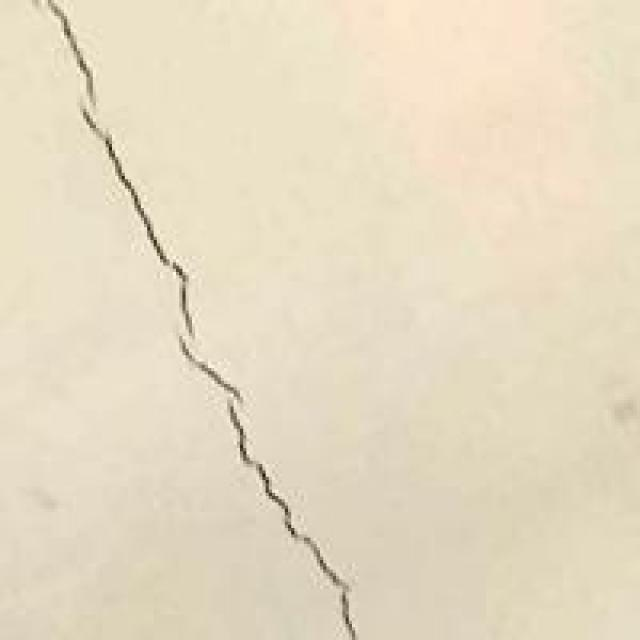crack: (38, 0, 356, 637)
